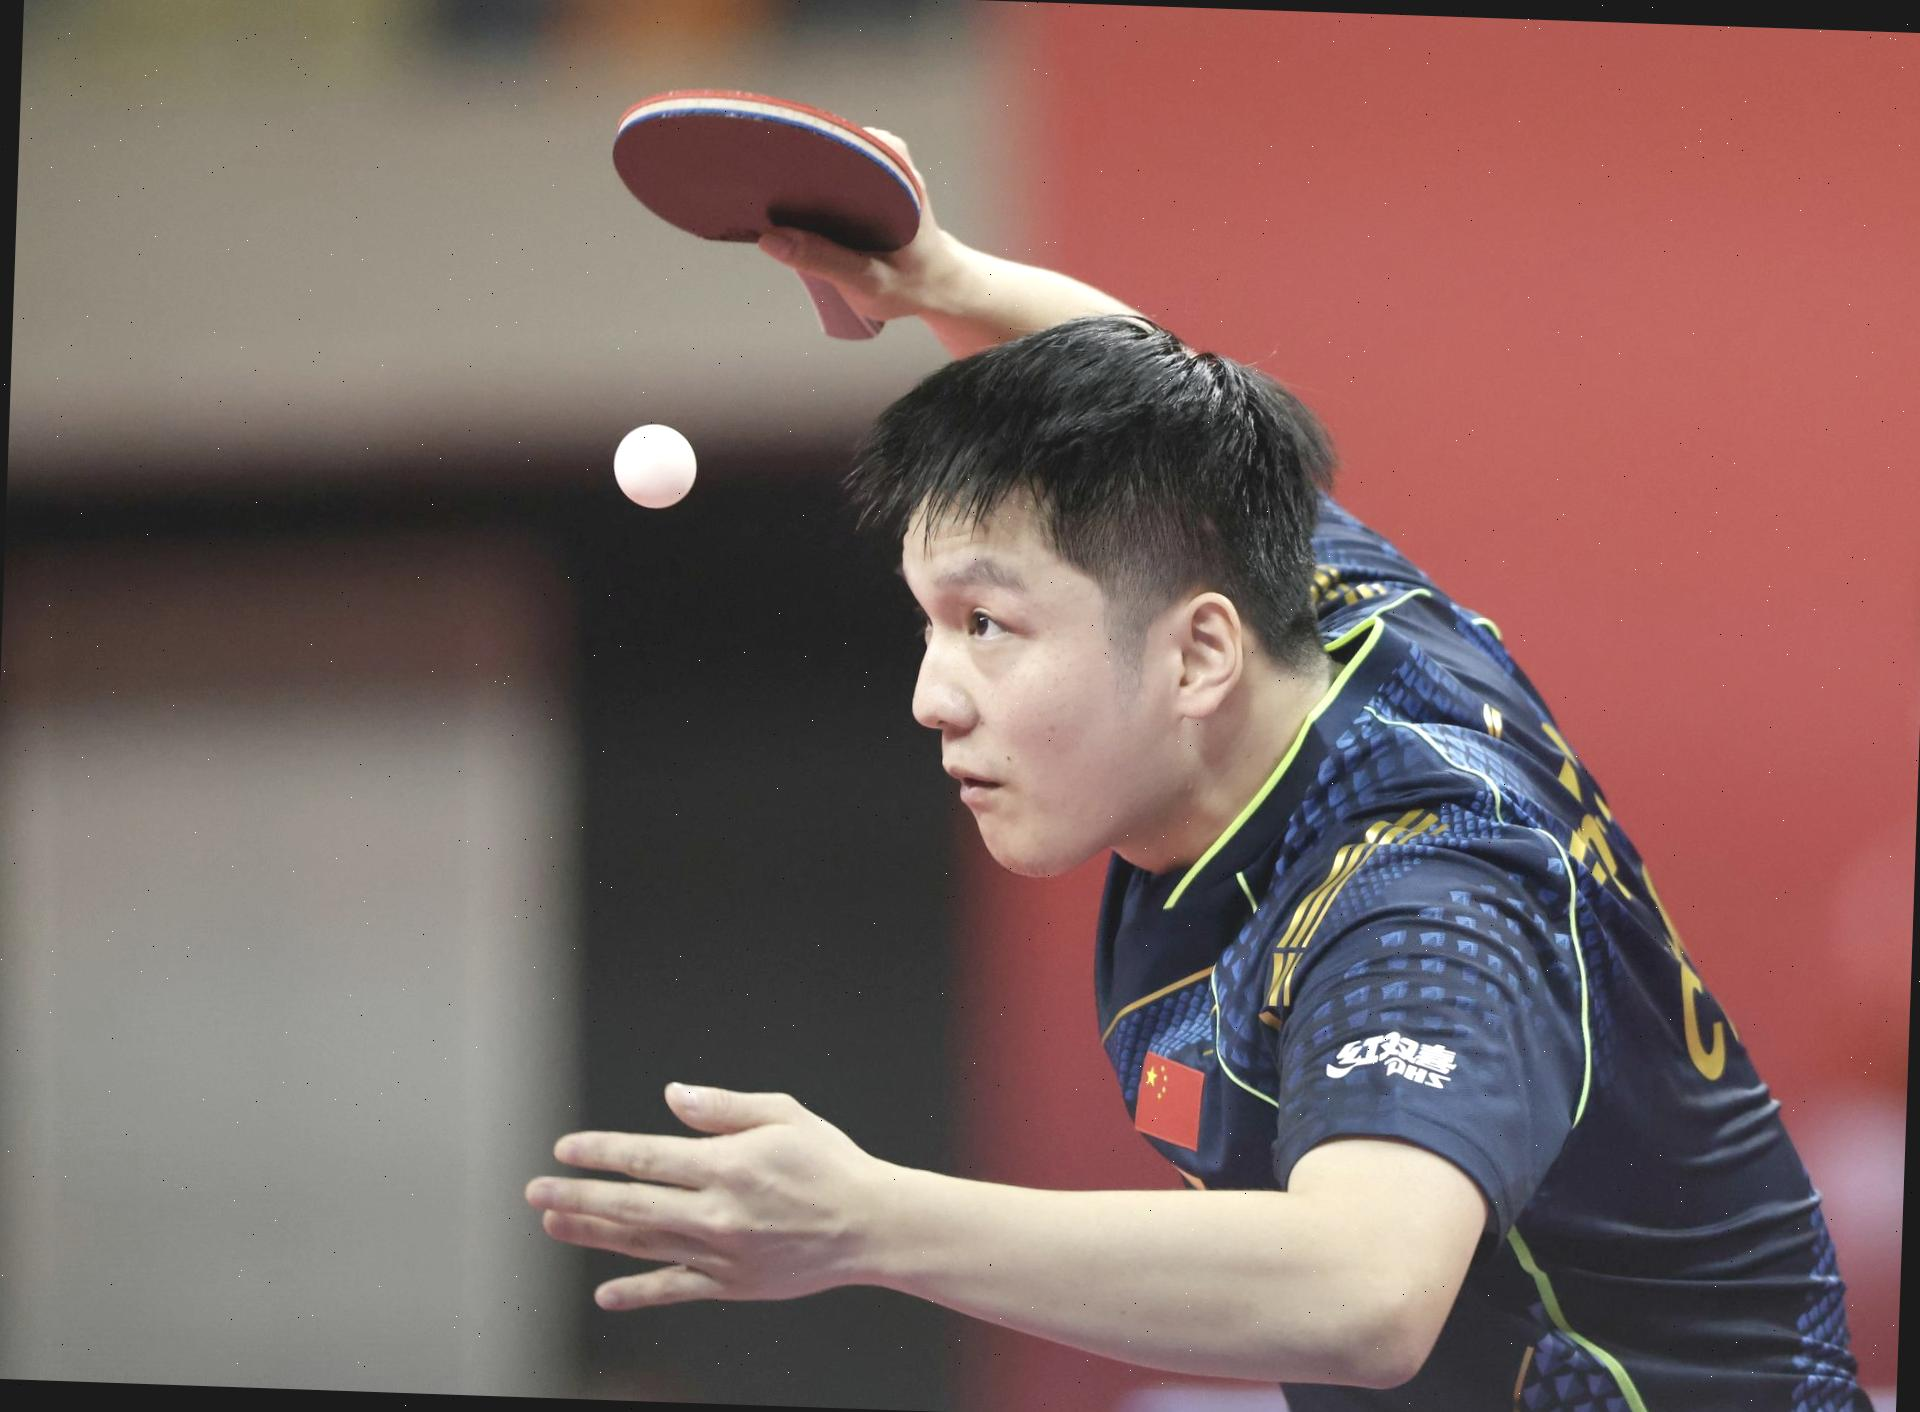ball: (601, 406, 708, 528)
